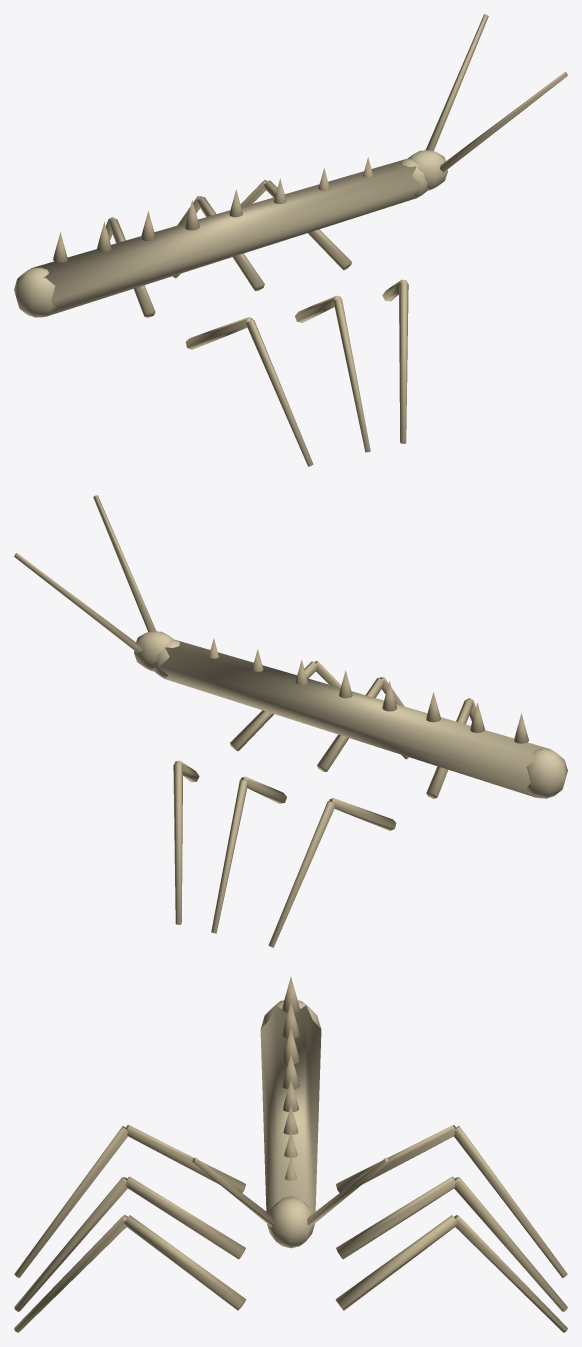
The model's file is spiny-leaf-insect.glb.
3 renders of one model, top to bottom at view 1: azimuth 30°, elevation 25°; view 2: azimuth 150°, elevation 25°; view 3: azimuth 270°, elevation 25°, orthographic. The views are drawn at different scales.
Parts seen in each view (by area): view 1: cone; view 2: cone; view 3: cone.
Boxes of the visible parts, x1,y1,x2,y2 form: cone: (14, 14, 567, 466); cone: (14, 495, 567, 947); cone: (14, 977, 567, 1332).
Size of the model in its own units: 0.5236 by 0.2548 by 0.4095.
